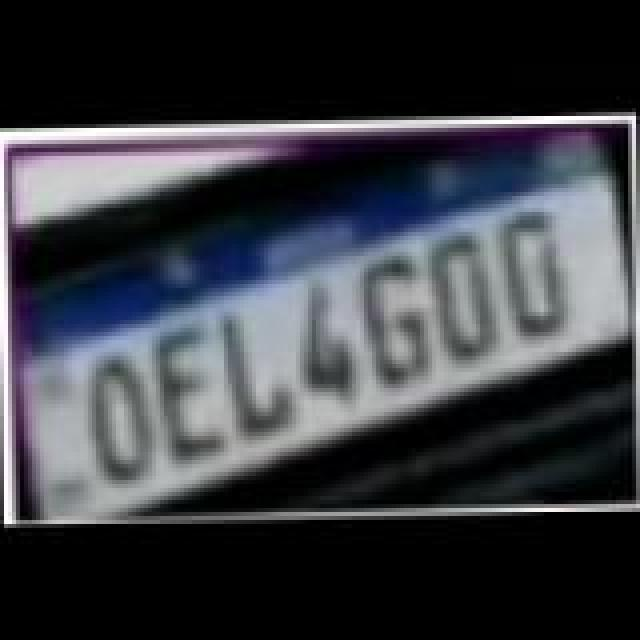4: (284, 278, 372, 406)
D: (490, 206, 582, 338), (424, 230, 512, 362)
E: (148, 322, 240, 462)
G: (348, 252, 444, 388)
L: (210, 308, 302, 436)
O: (78, 352, 166, 488)
